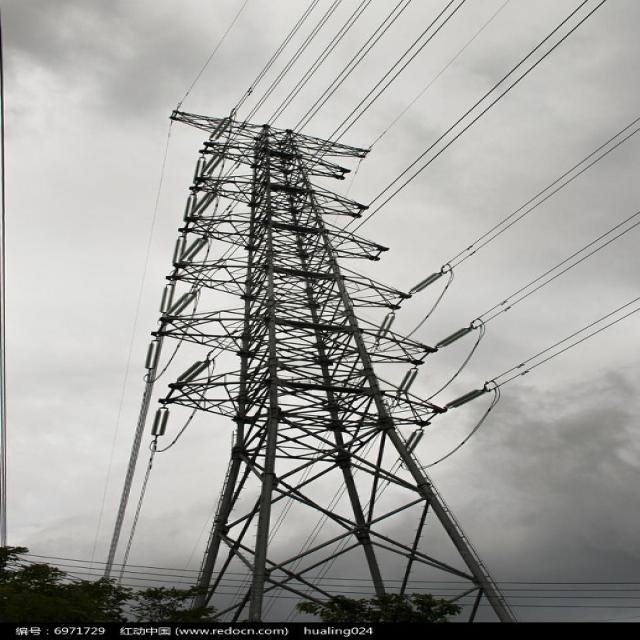non-critical vegetation: (135, 101, 522, 620)
